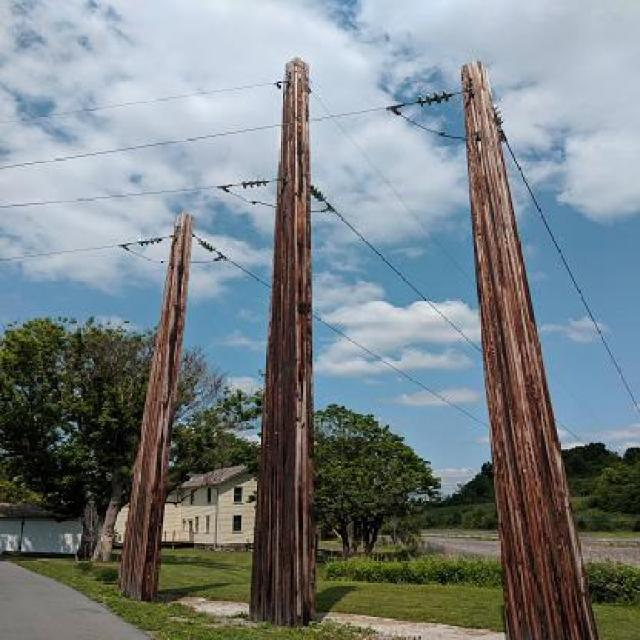pole: (442, 51, 604, 637), (223, 66, 349, 620), (114, 214, 218, 595)
